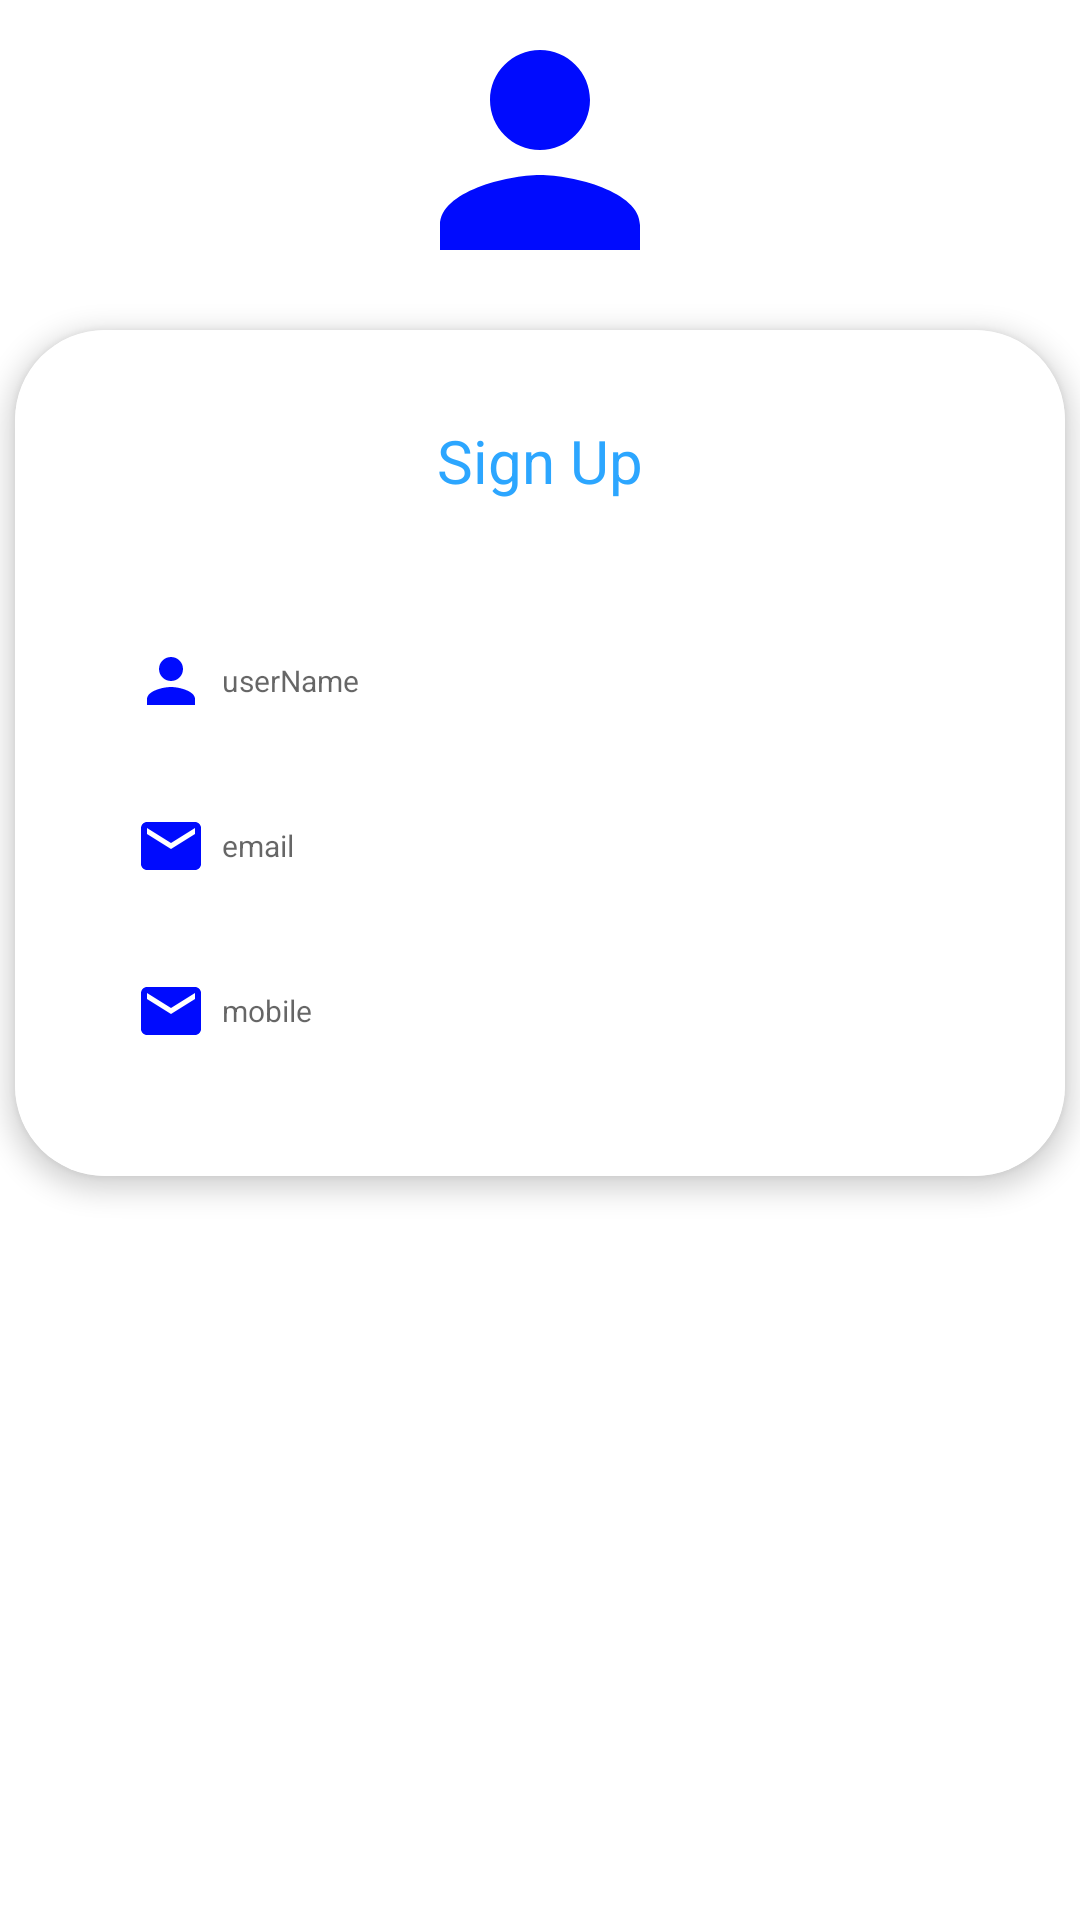

Icon click points for this 1080 × 1920 phone screenshot, format [x,y]:
person: [540,150]
